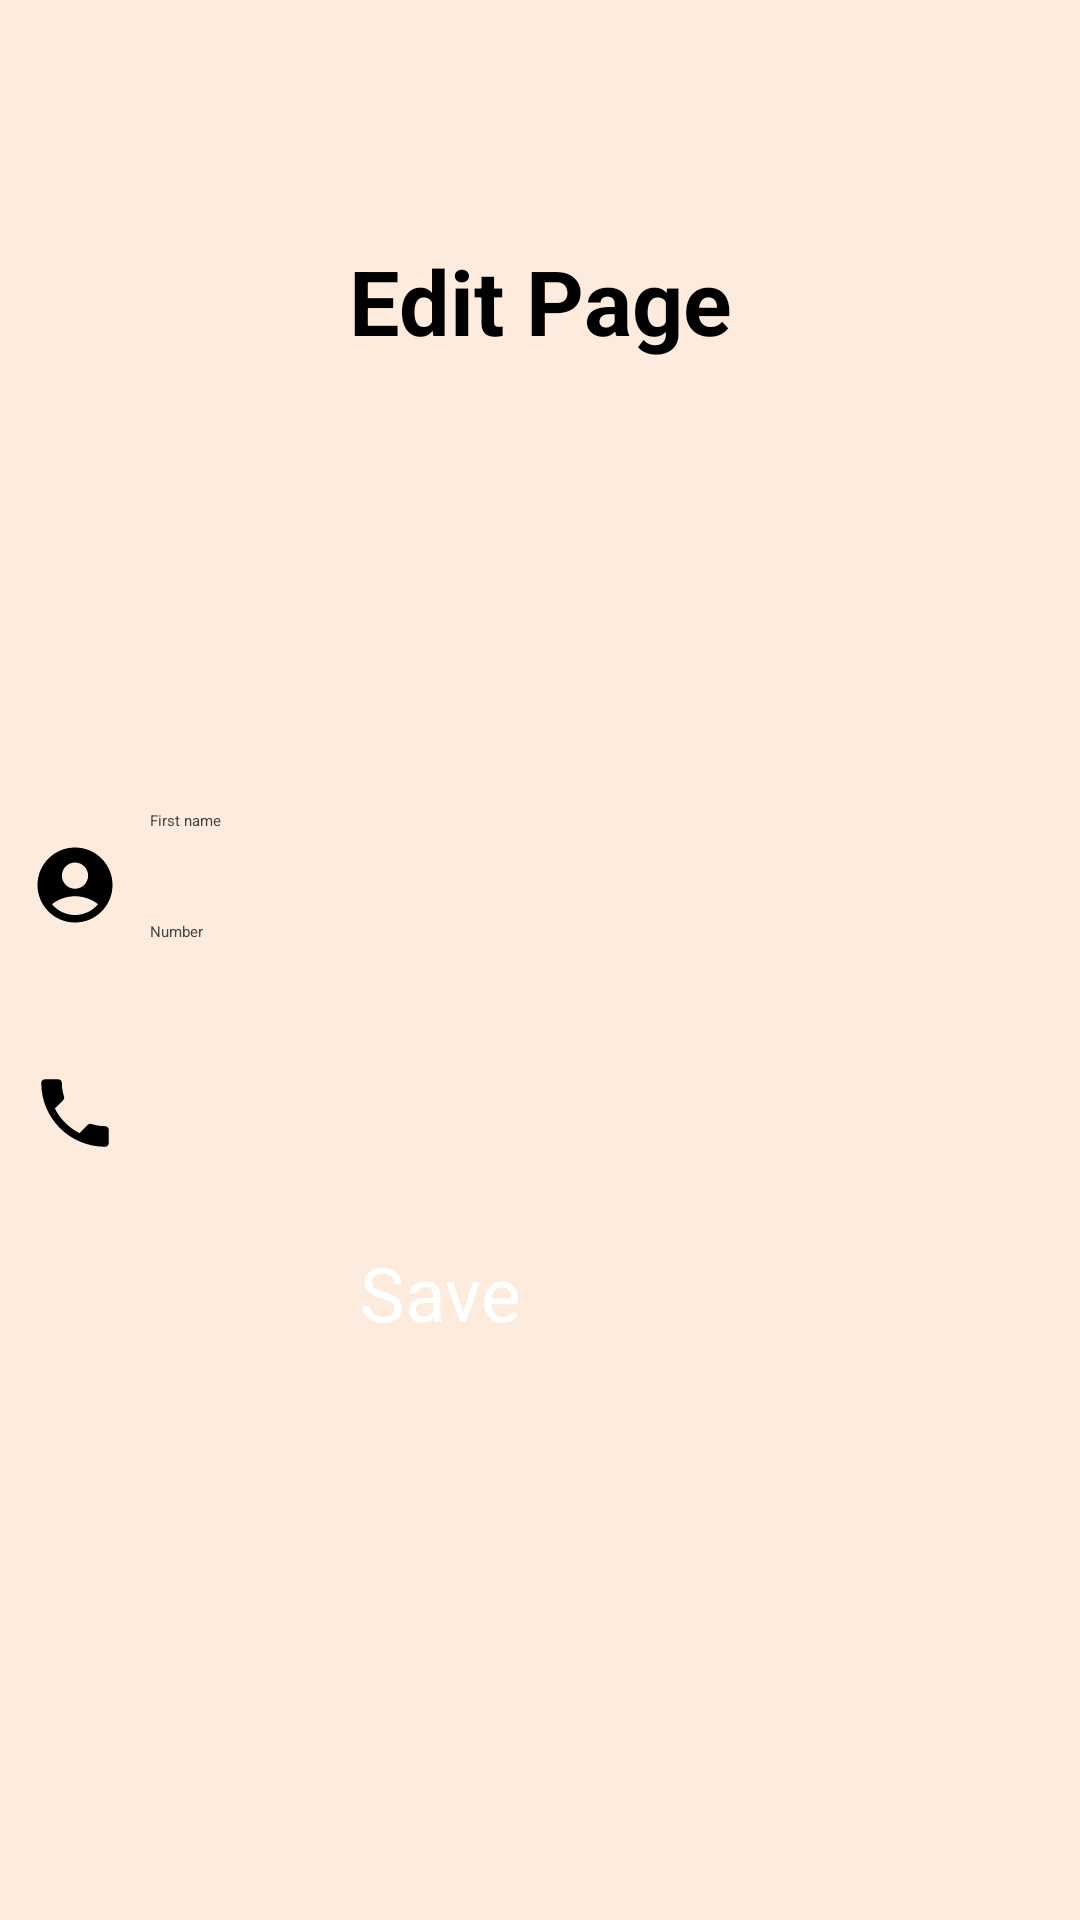

Locate icon controls on the screen. Image size 1080 x 1920, boxes as box=[x1, y1, x2, y2].
account circle: box=[37, 847, 113, 923]
phone: box=[41, 1079, 109, 1147]
